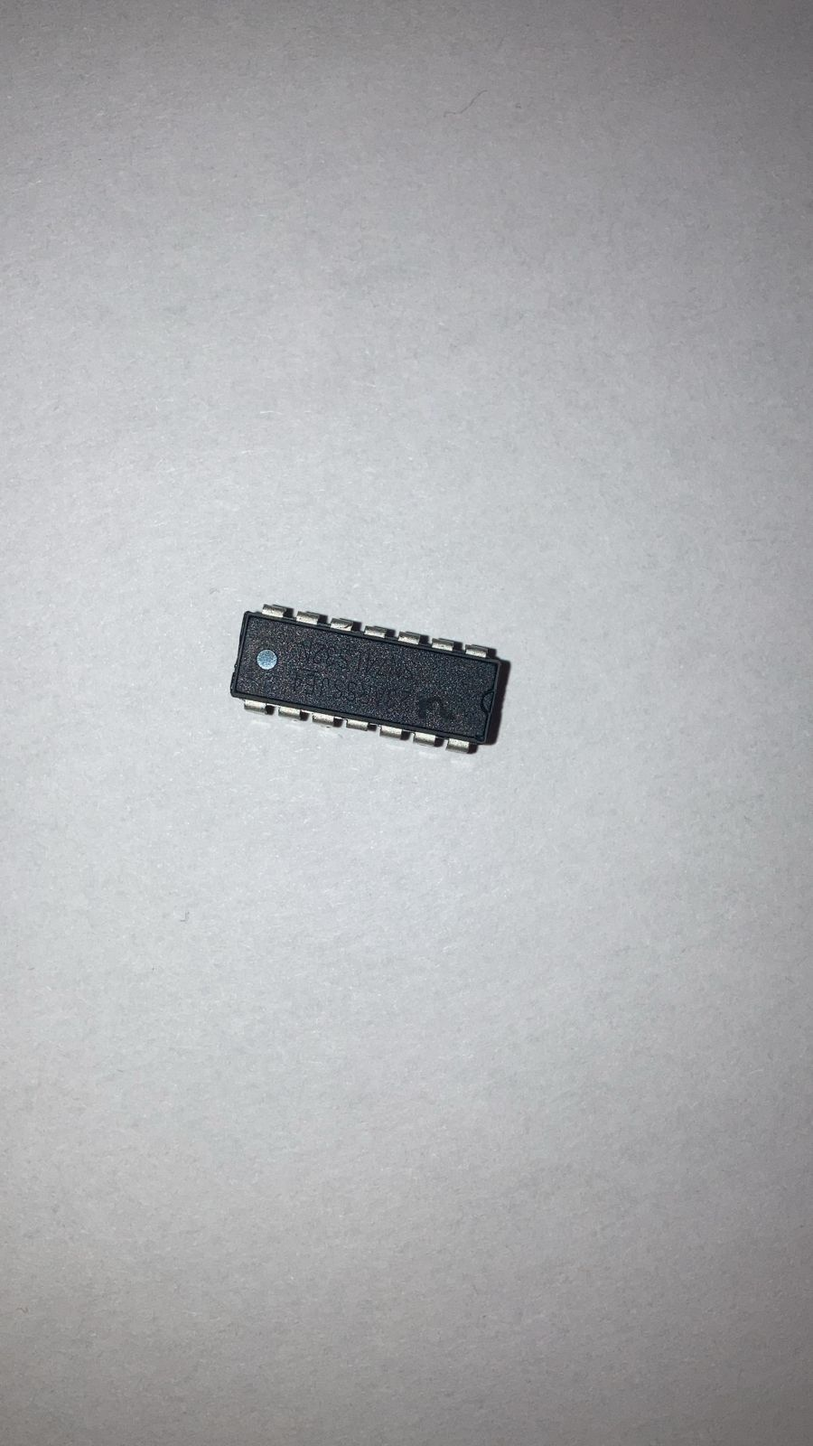IC: (223, 598, 505, 761)
notch: (478, 688, 498, 717)
